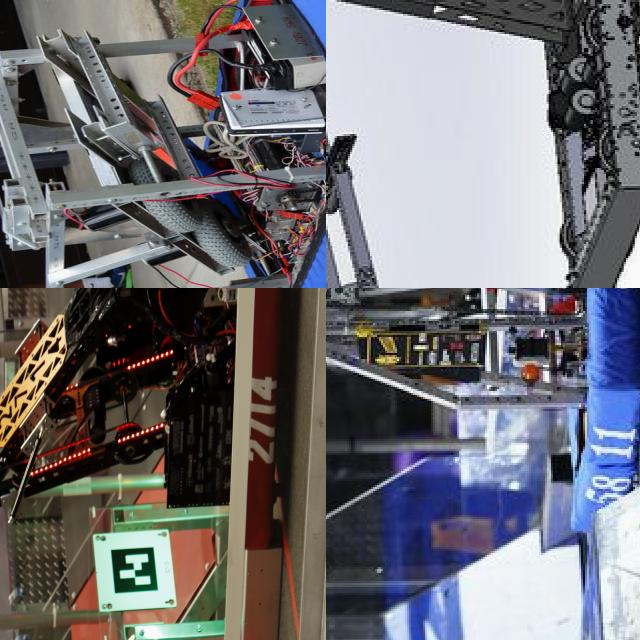FRC-Robots: (0, 288, 292, 620), (0, 0, 326, 288), (326, 0, 640, 288), (326, 288, 640, 504)
